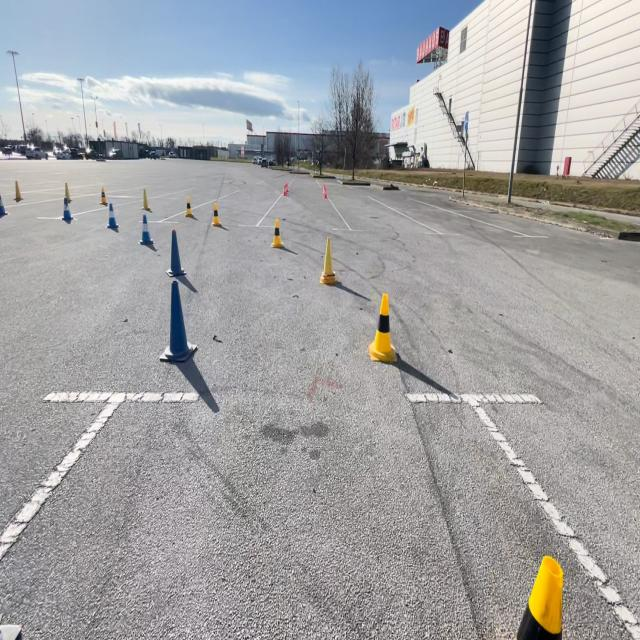blue_cone: (159, 281, 196, 364), (166, 230, 187, 278), (138, 212, 154, 244), (0, 623, 22, 639), (106, 202, 118, 227), (61, 197, 73, 221), (0, 192, 8, 215)
orange_cone: (322, 182, 328, 198), (282, 182, 289, 195)
yellow_cone: (515, 555, 569, 639), (369, 293, 399, 363), (320, 237, 337, 286), (271, 219, 282, 247), (211, 203, 222, 227), (141, 188, 152, 210), (184, 196, 193, 217), (14, 181, 23, 201), (100, 188, 108, 207), (65, 182, 73, 200)
